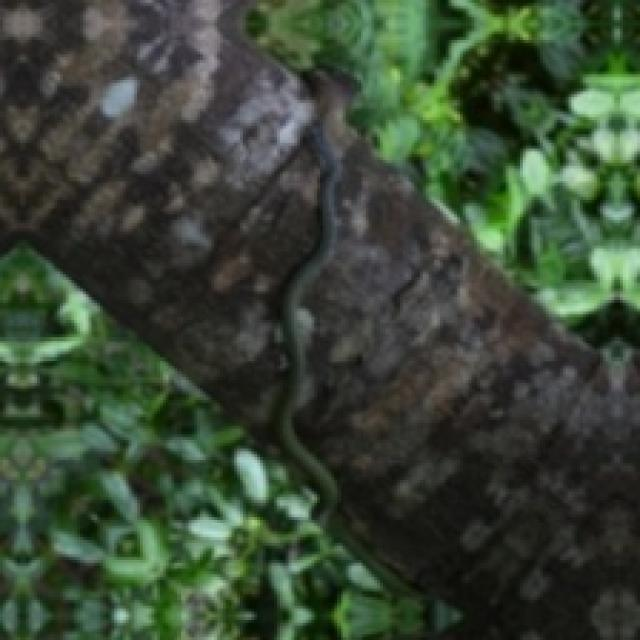paradise tree snake: (283, 77, 449, 577), (274, 120, 340, 523)
